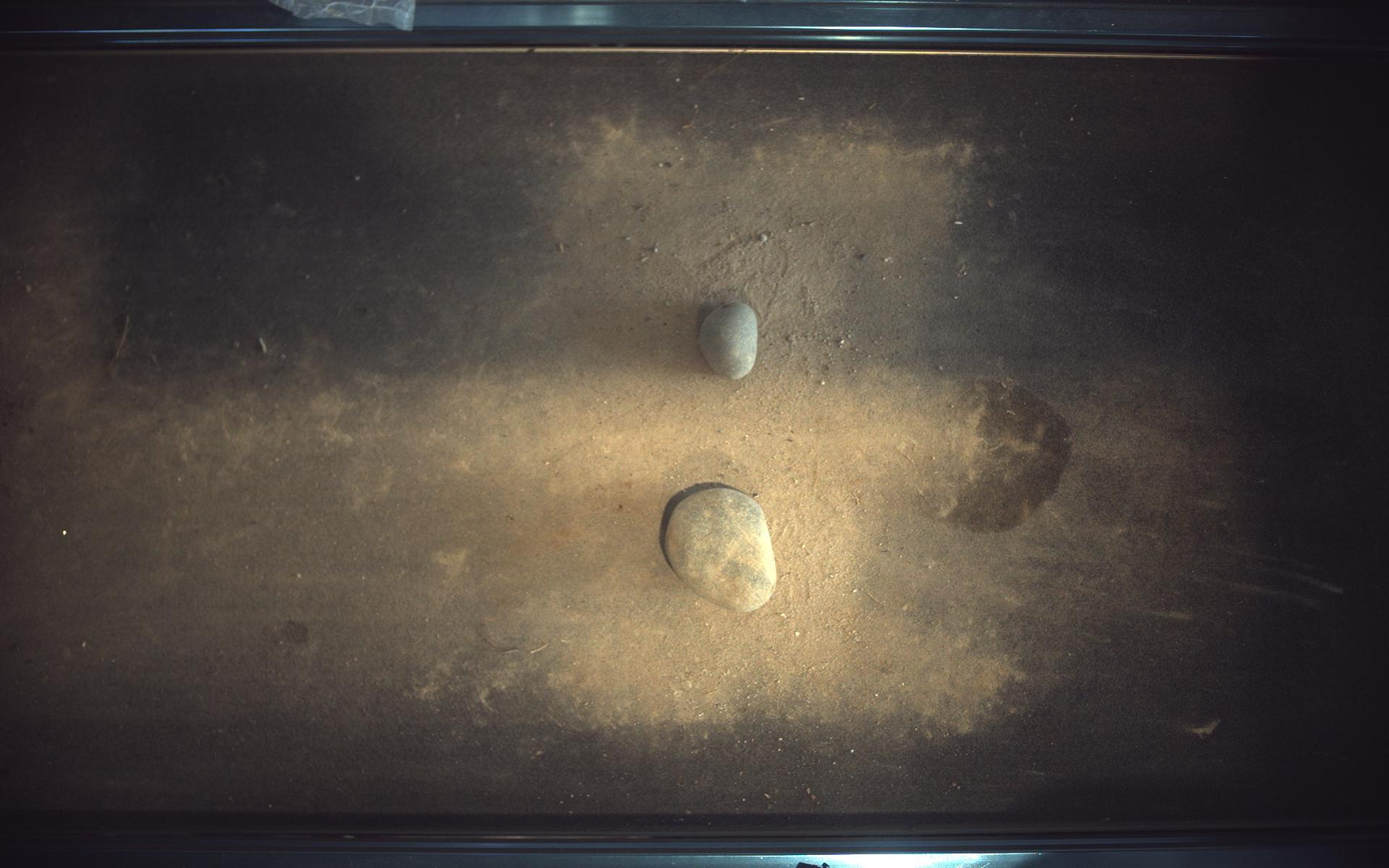stone: (666, 488, 778, 613), (700, 302, 759, 379)
